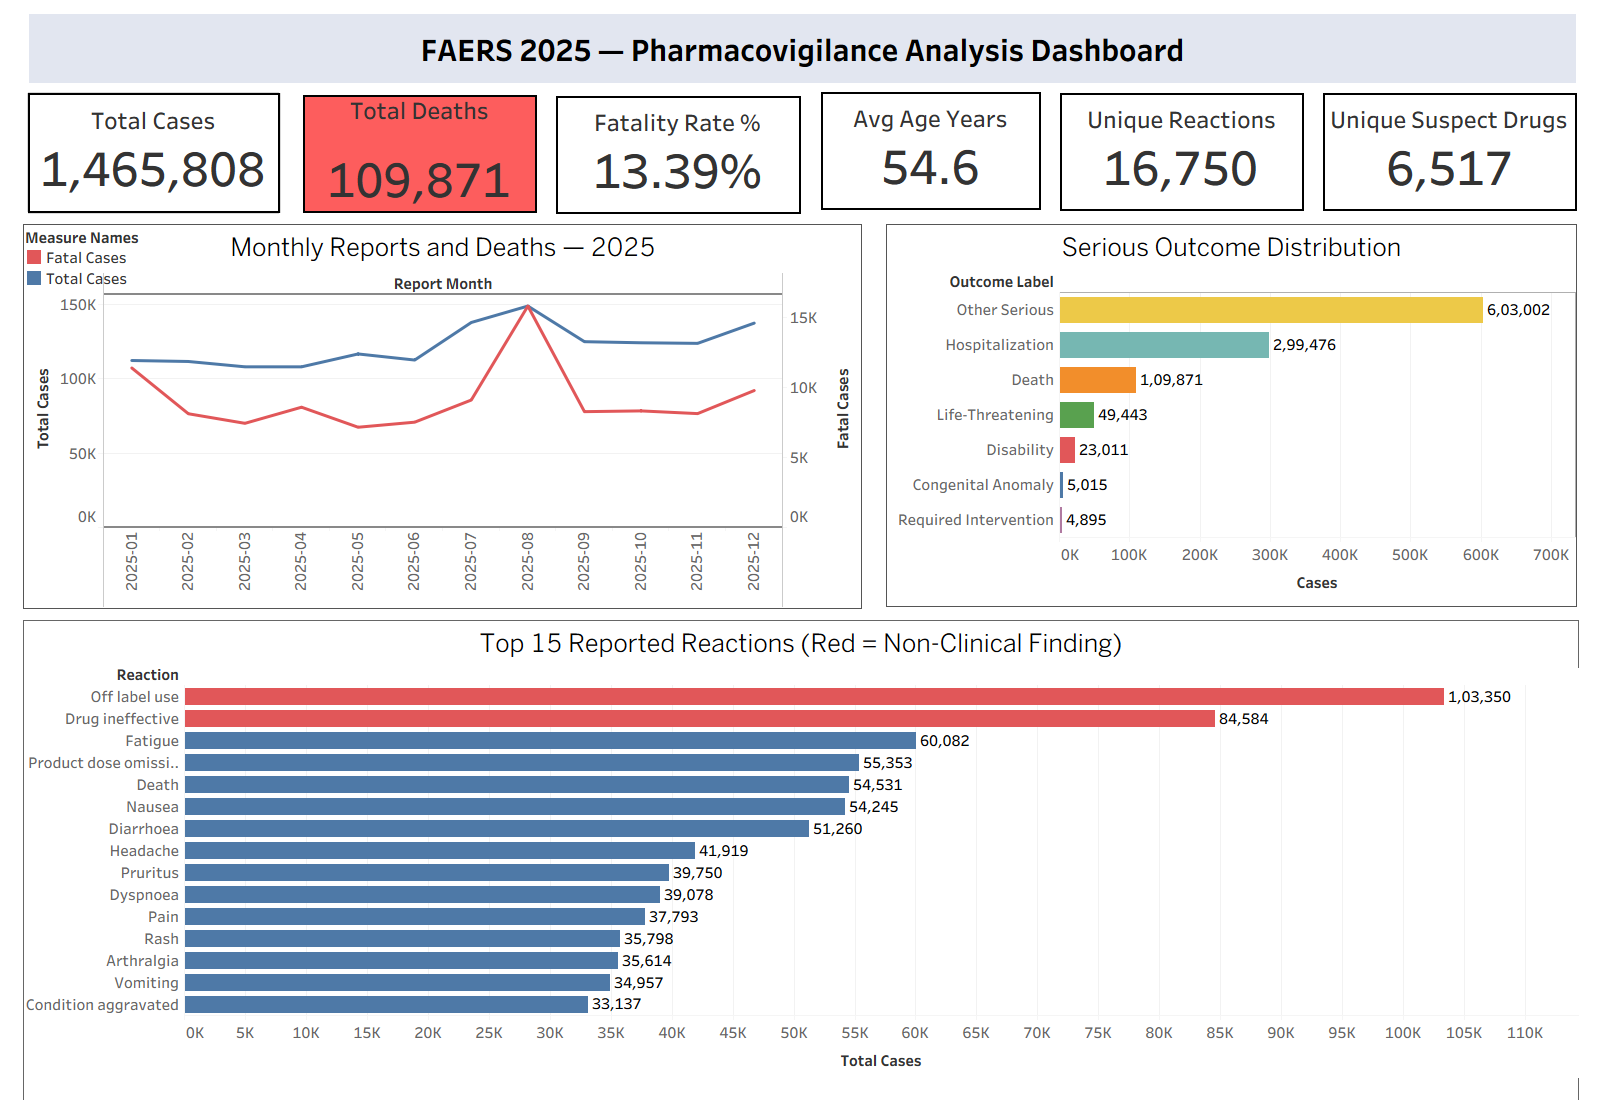

The dashboard page shown, as its layout file describes it:
{"tool":"tableau","page":{"name":"Overview","canvas":[1600,1100],"ordinal":3},"visuals":[{"type":"text","box":[29,14,1547,69]},{"type":"worksheet","title":"Avg Age KPI","mark":"Automatic","box":[820,76,221,135]},{"type":"worksheet","title":"Total Cases KPI","mark":"Automatic","box":[27,77,254,138]},{"type":"worksheet","title":"Unique Reactions KPI","mark":"Automatic","box":[1059,77,245,135]},{"type":"worksheet","title":"Unique Suspect Drugs KPI","mark":"Automatic","box":[1322,77,255,134]},{"type":"worksheet","title":"Total Deaths KPI ","mark":"Automatic","box":[302,79,236,134]},{"type":"worksheet","title":"Fatality Rate KPI","mark":"Automatic","box":[555,80,246,135]},{"type":"worksheet","title":"Monthly Trend","mark":"Line","rows":["total_cases","fatal_cases"],"cols":["report_month"],"box":[23,224,839,385]},{"type":"worksheet","title":"Outcome Mix","mark":"Bar","rows":["outcome_label"],"cols":["cases"],"box":[886,224,691,383]},{"type":"legend","title":"Monthly Trend","param":"[federated.0n4yyds0x336n61cl75u80gix6h6].[:Measure Names]","box":[24,225,146,66]},{"type":"worksheet","title":"Top 15 Reactions","mark":"Bar","rows":["reaction"],"cols":["total_cases"],"box":[23,620,1556,481]}]}

Visuals, with their boxes in screenshot pixels (x1, y1, x2, y2), scaled from the page's 1600x1100 canvas onto the 1600x1100 screenshot:
text: <box>29,14,1576,83</box>
"Avg Age KPI" worksheet: <box>820,76,1041,211</box>
"Total Cases KPI" worksheet: <box>27,77,281,215</box>
"Unique Reactions KPI" worksheet: <box>1059,77,1304,212</box>
"Unique Suspect Drugs KPI" worksheet: <box>1322,77,1577,211</box>
"Total Deaths KPI " worksheet: <box>302,79,538,213</box>
"Fatality Rate KPI" worksheet: <box>555,80,801,215</box>
"Monthly Trend" worksheet (Line marks): <box>23,224,862,609</box>
"Outcome Mix" worksheet (Bar marks): <box>886,224,1577,607</box>
"Monthly Trend" legend: <box>24,225,170,291</box>
"Top 15 Reactions" worksheet (Bar marks): <box>23,620,1579,1099</box>
